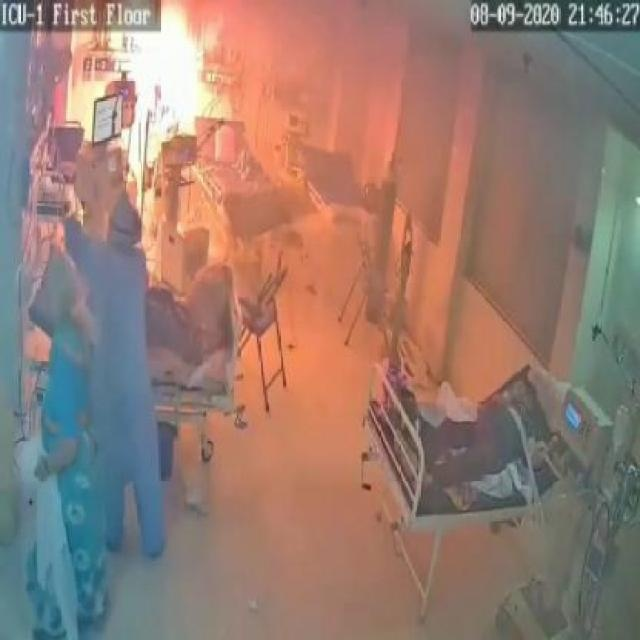fire: (93, 7, 257, 191)
